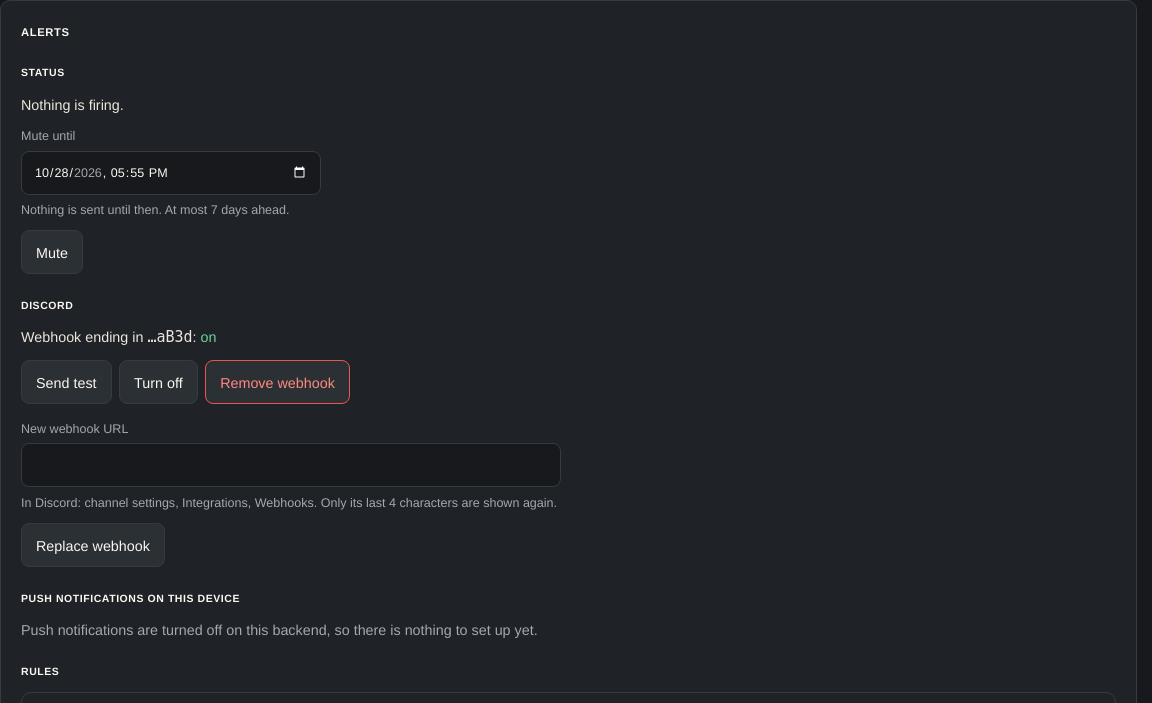
Test case: the Discord controls › keeps the typed URL and shows the refusal in words when the backend says no
Type "https://example.com/hook" into the password field labelled "New webhook URL" at (291,465), box [21,443,561,487]
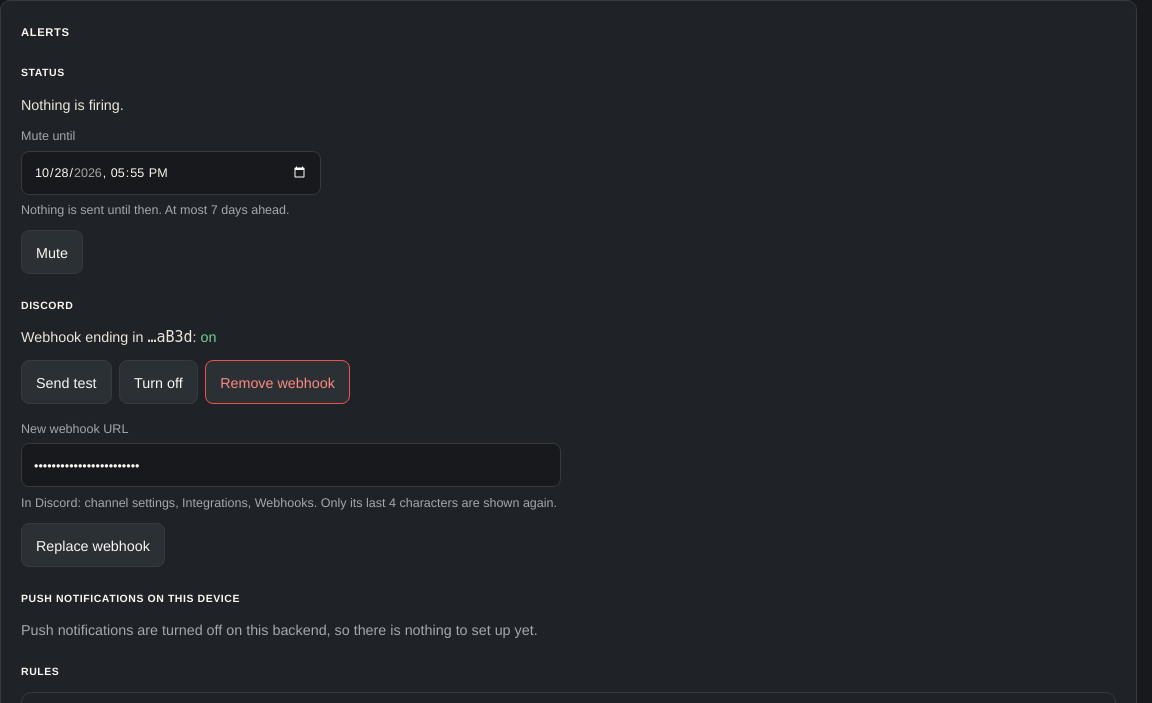
Click the button "Replace webhook" at (93,545), box [21,523,165,567]
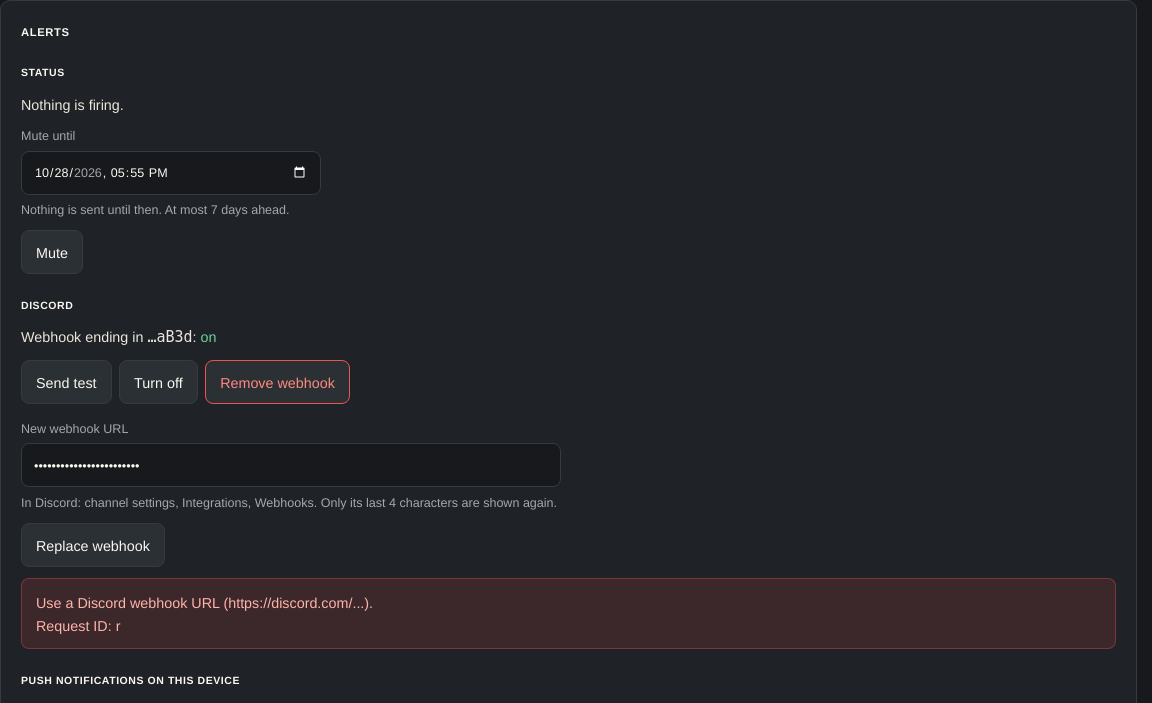
Now the text "Use a Discord webhook URL (https://discord.com/...)." is shown, box [36,593,373,611]
